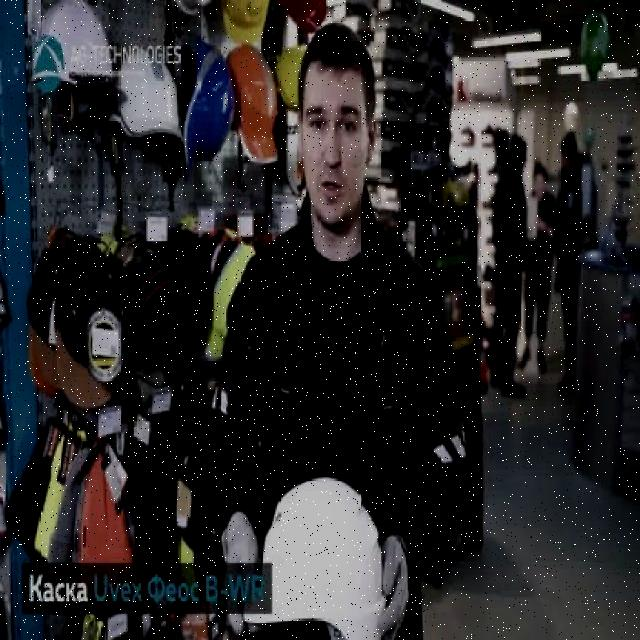Gloves: (180, 35, 234, 177), (218, 511, 258, 638), (378, 524, 409, 638)
Helmet: (244, 474, 388, 638), (38, 0, 120, 86), (227, 43, 281, 165), (114, 49, 184, 142), (276, 39, 310, 122)
